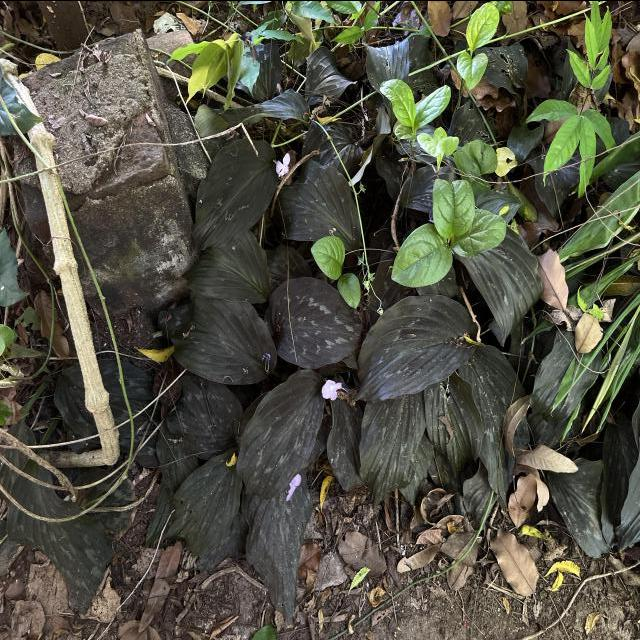Kaempferia galanga linn: (348, 292, 480, 403), (235, 367, 327, 500), (188, 136, 280, 256), (169, 288, 278, 386), (159, 444, 244, 558), (264, 274, 367, 368), (358, 384, 428, 516), (180, 227, 274, 305)
